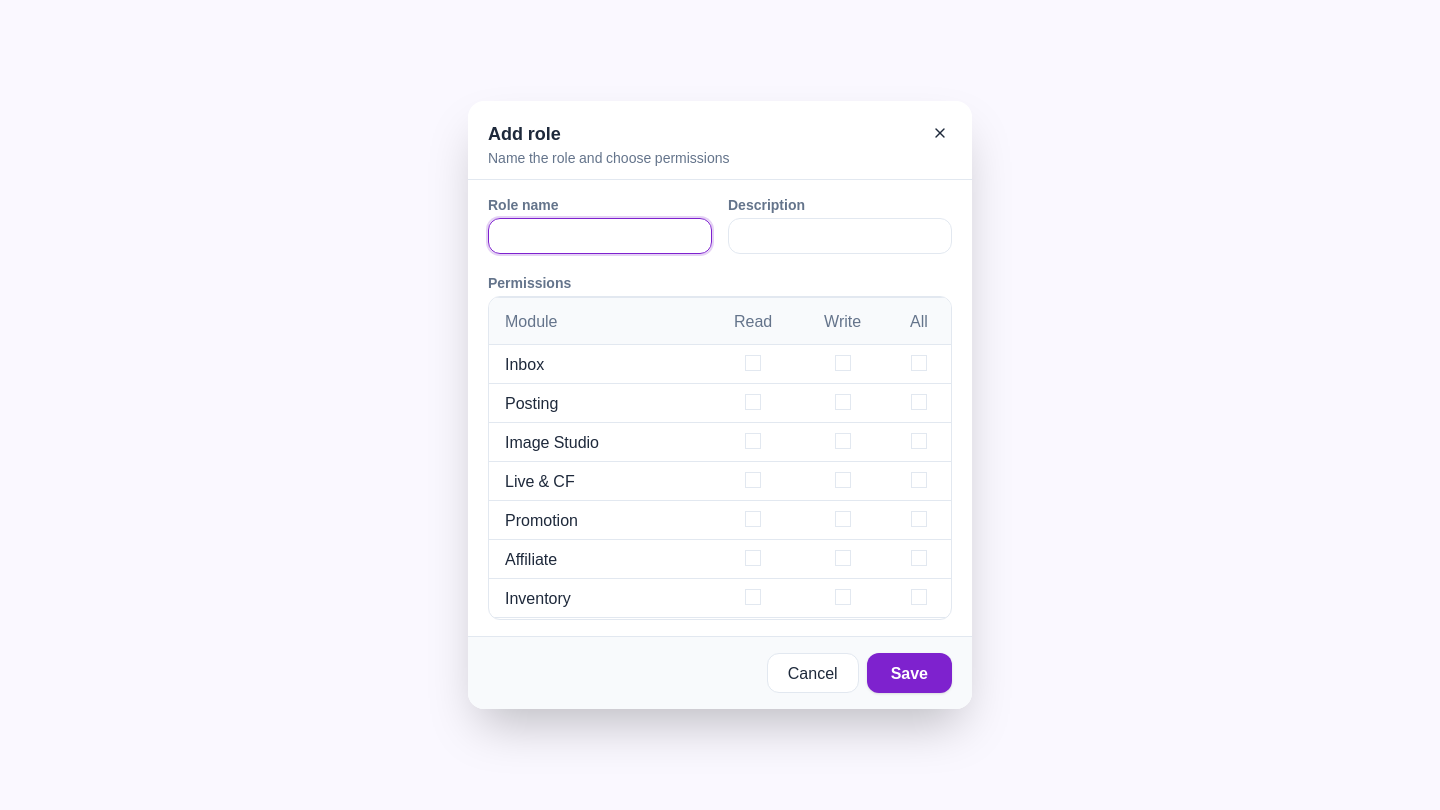
RoleFormDialog › ສ້າງ: ຊື່ວ່າງຖືກປະຕິເສດ
This screenshot has width=1440, height=810.
Step 1. Click the button "Save" → (909, 673), box [867, 653, 952, 693]
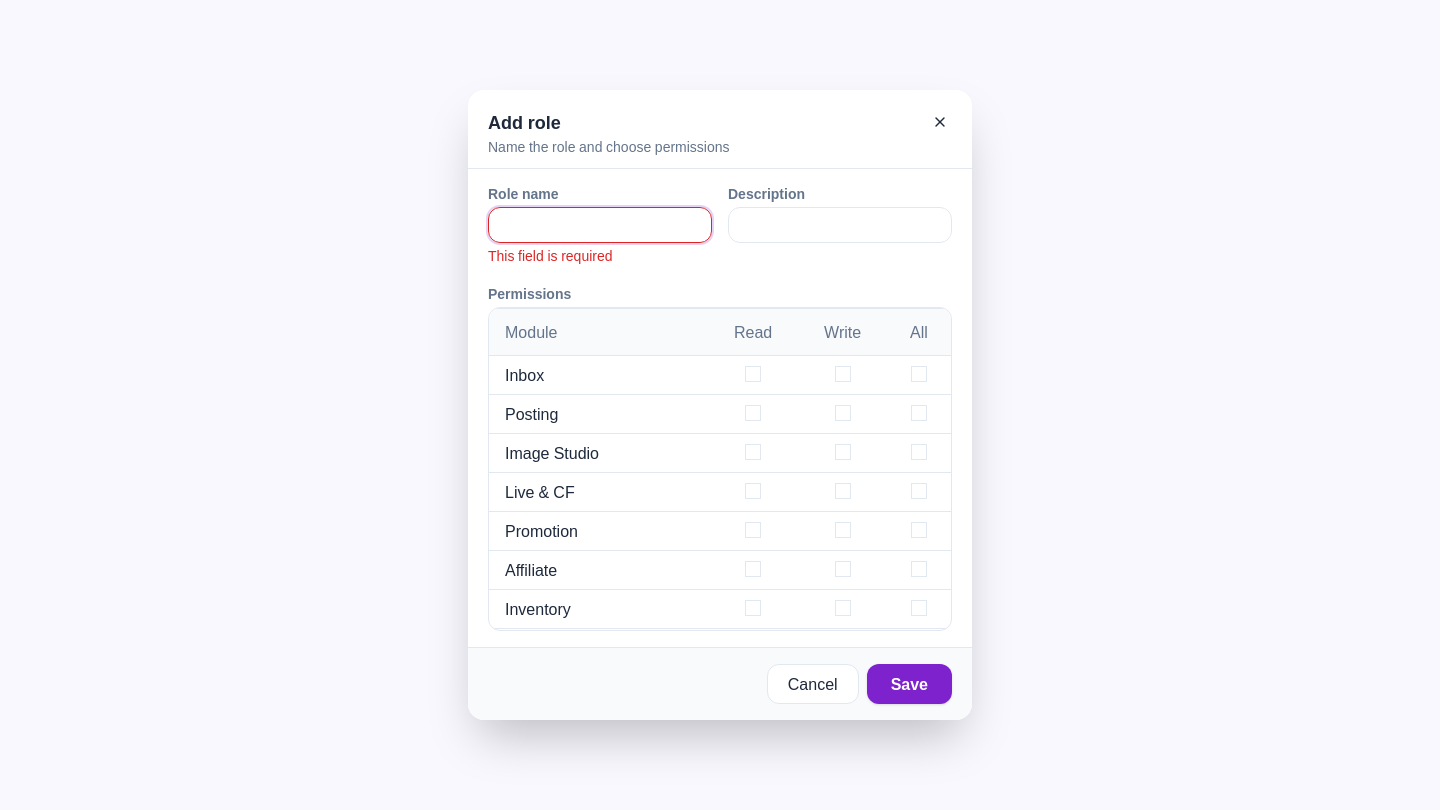
Expected: the text "This field is required" is shown, [488, 244, 612, 267]
